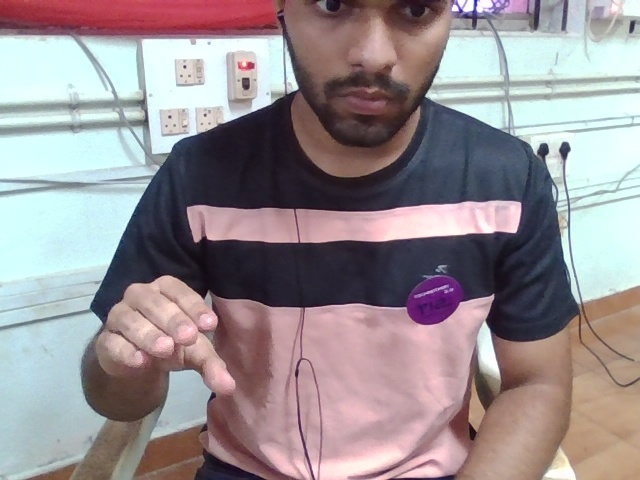no: (95, 266, 257, 425)
